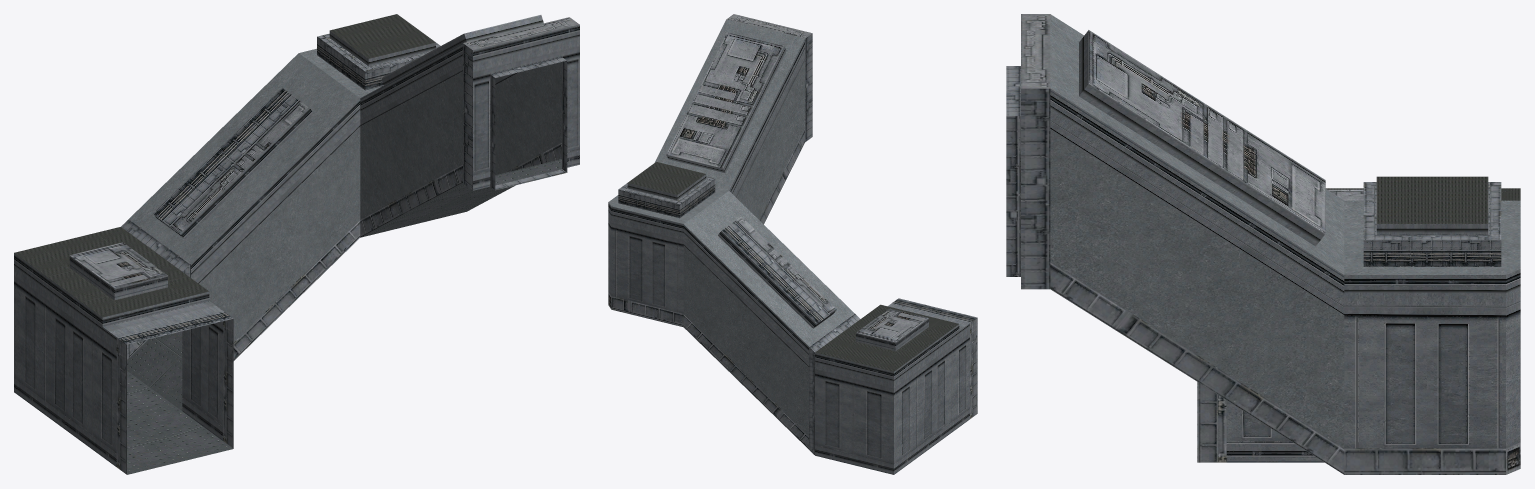
The model's file is poi_all_impl_bunker_s03_r6_ramp2_mesh_r6.fbx.
3 renders of one model, left to right at view 1: azimuth 30°, elevation 25°; view 2: azimuth 150°, elevation 25°; view 3: azimuth 270°, elevation 25°, orthographic. The views are drawn at different scales.
Visible parts, largest first — view 1: mesh_node; view 2: mesh_node; view 3: mesh_node.
Part boxes in pixels (<box>): mesh_node: <box>14,14,579,474</box>; mesh_node: <box>608,14,977,474</box>; mesh_node: <box>1006,14,1520,474</box>.
Size of the model in its own units: 11 by 10.75 by 8.75.
